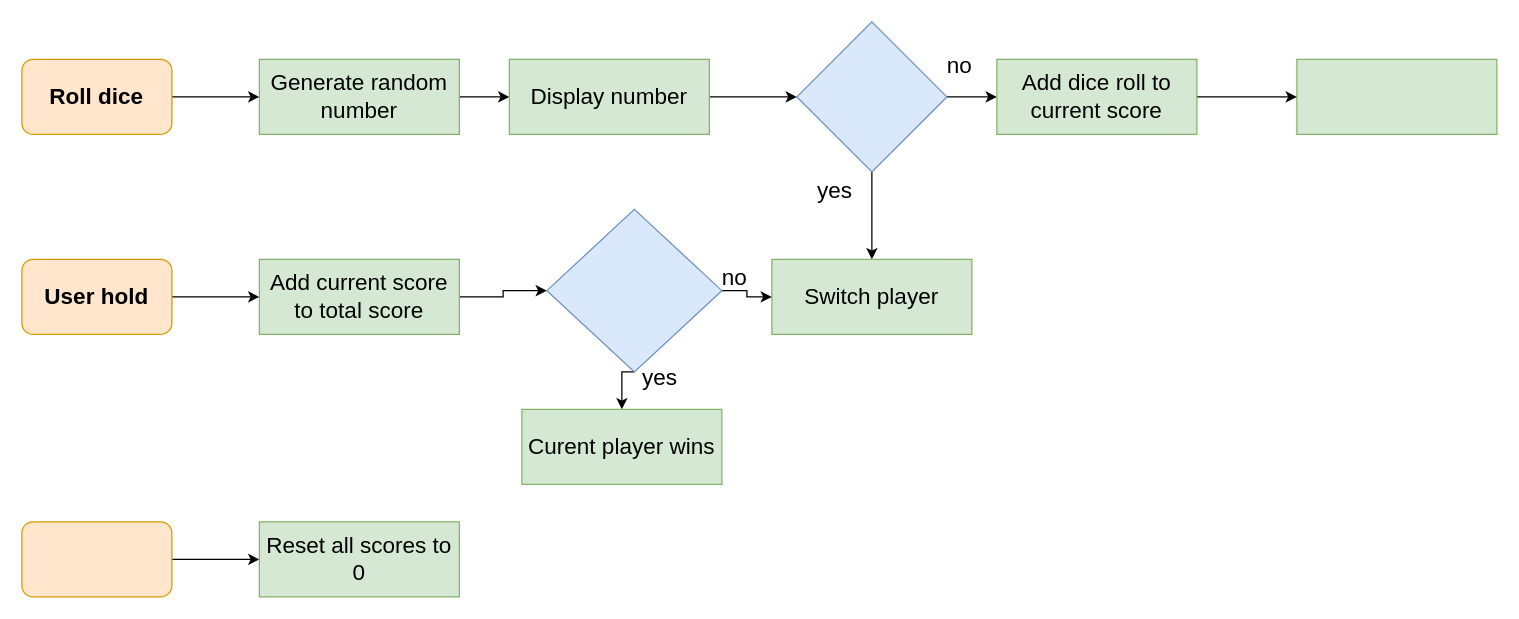
The diagram is 1519 pixels wide and 619 high, and some of its shapes have lost their labels. Each missing label, with the centre of its shape:
Display new score: [1396,96]
is it 1?: [871,96]
Reset game: [96,559]
Score >=100?: [634,290]
